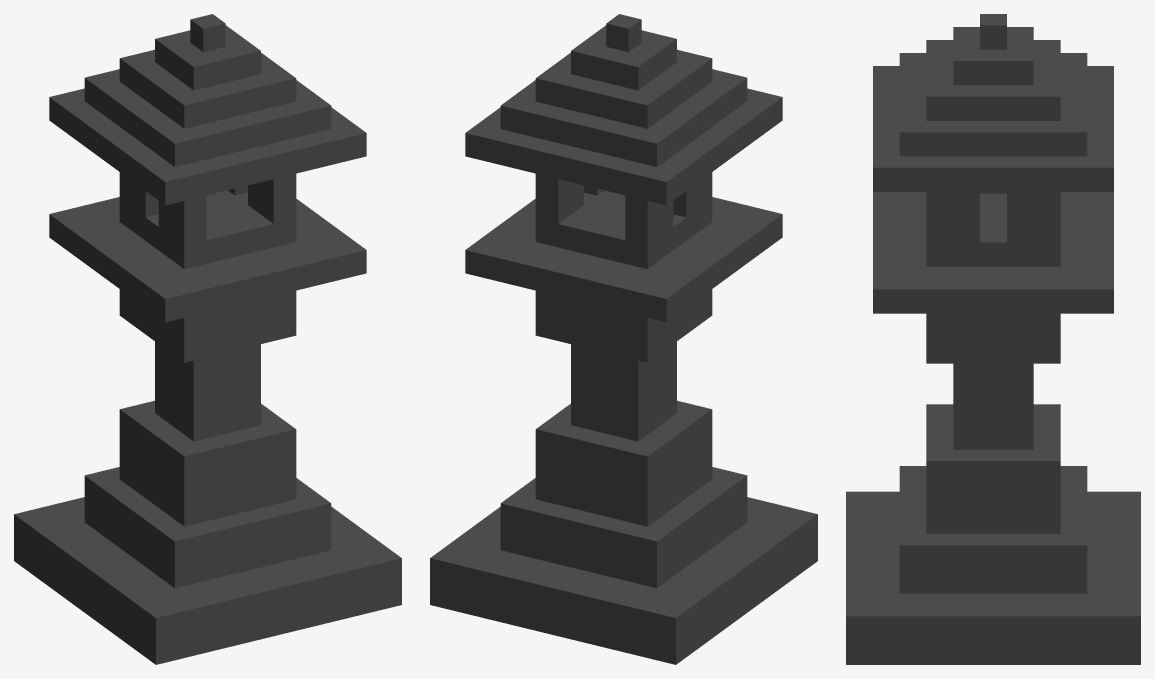
Rendered from mapkari-6.obj.
The picture shows the model from 3 angles, left to right: view 1: azimuth 30°, elevation 25°; view 2: azimuth 150°, elevation 25°; view 3: azimuth 270°, elevation 25°; orthographic projection. The views are drawn at different scales.
Visible parts, largest first — view 1: mapkari-6; view 2: mapkari-6; view 3: mapkari-6.
Boxes of the visible parts, box(x1,y1,x2,y2) form: mapkari-6: box(14, 14, 401, 664); mapkari-6: box(430, 14, 817, 664); mapkari-6: box(846, 14, 1140, 664).
Bounding box in the file's own units: 11 × 24 × 11.
Materials: 1 (1 with a texture image).
